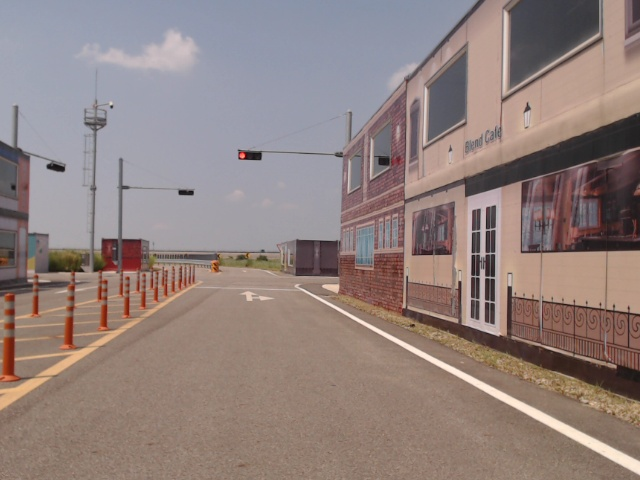red_3: (239, 152, 262, 160)
